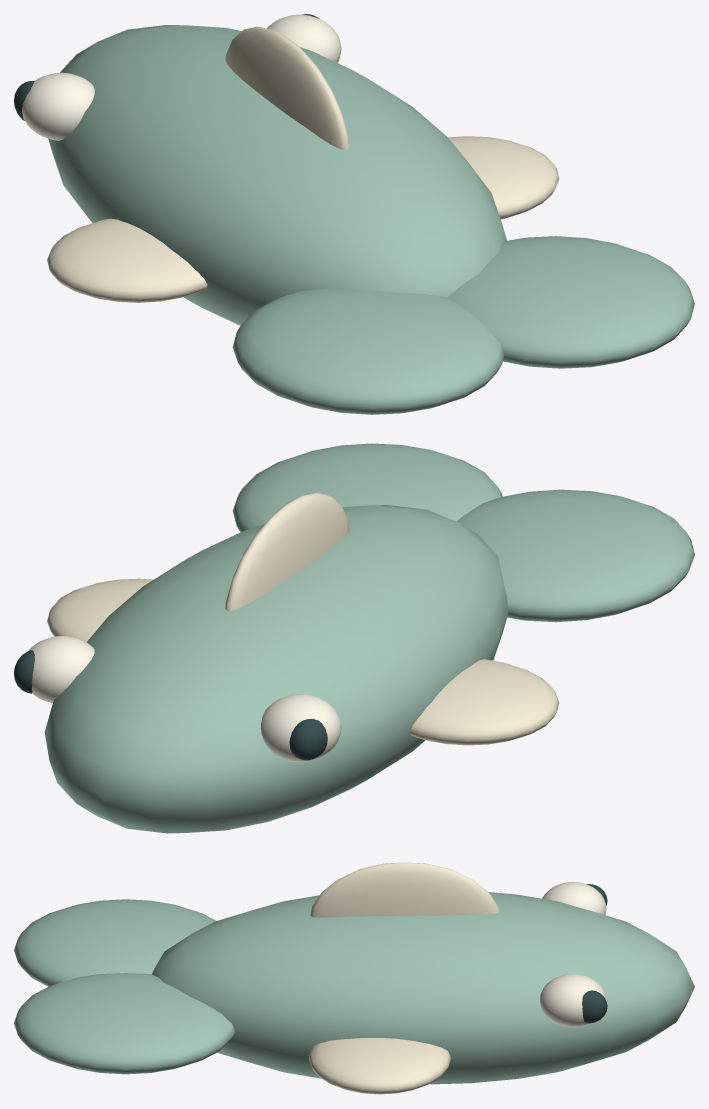
File: Fish5.fbx
The picture shows the model from 3 angles, top to bottom: view 1: azimuth 30°, elevation 25°; view 2: azimuth 150°, elevation 25°; view 3: azimuth 270°, elevation 25°; orthographic projection. The views are drawn at different scales.
Visible parts, largest first — view 1: Fish5; view 2: Fish5; view 3: Fish5.
Part boxes in pixels (x1=…): Fish5: x1=14, y1=14, x2=694, y2=414; Fish5: x1=14, y1=443, x2=694, y2=833; Fish5: x1=14, y1=862, x2=694, y2=1094.
Size of the model in its own units: 44 by 22 by 67.
